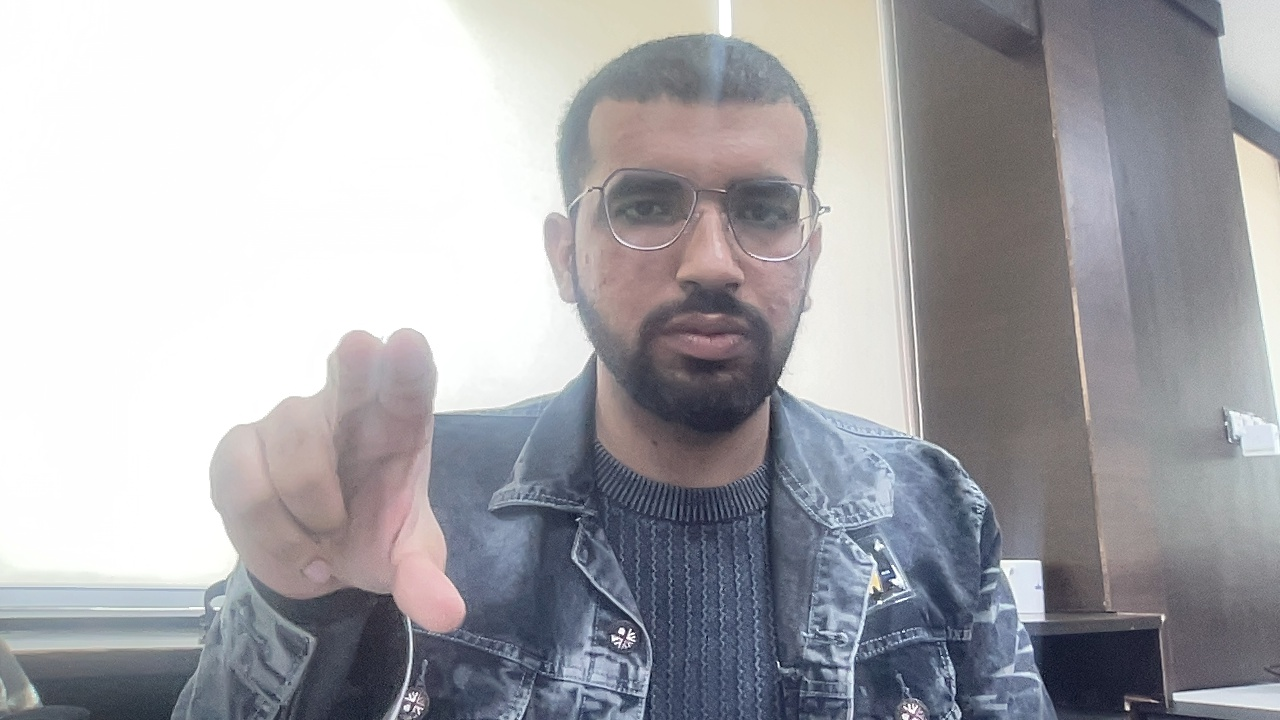No: (162, 328, 582, 638)
